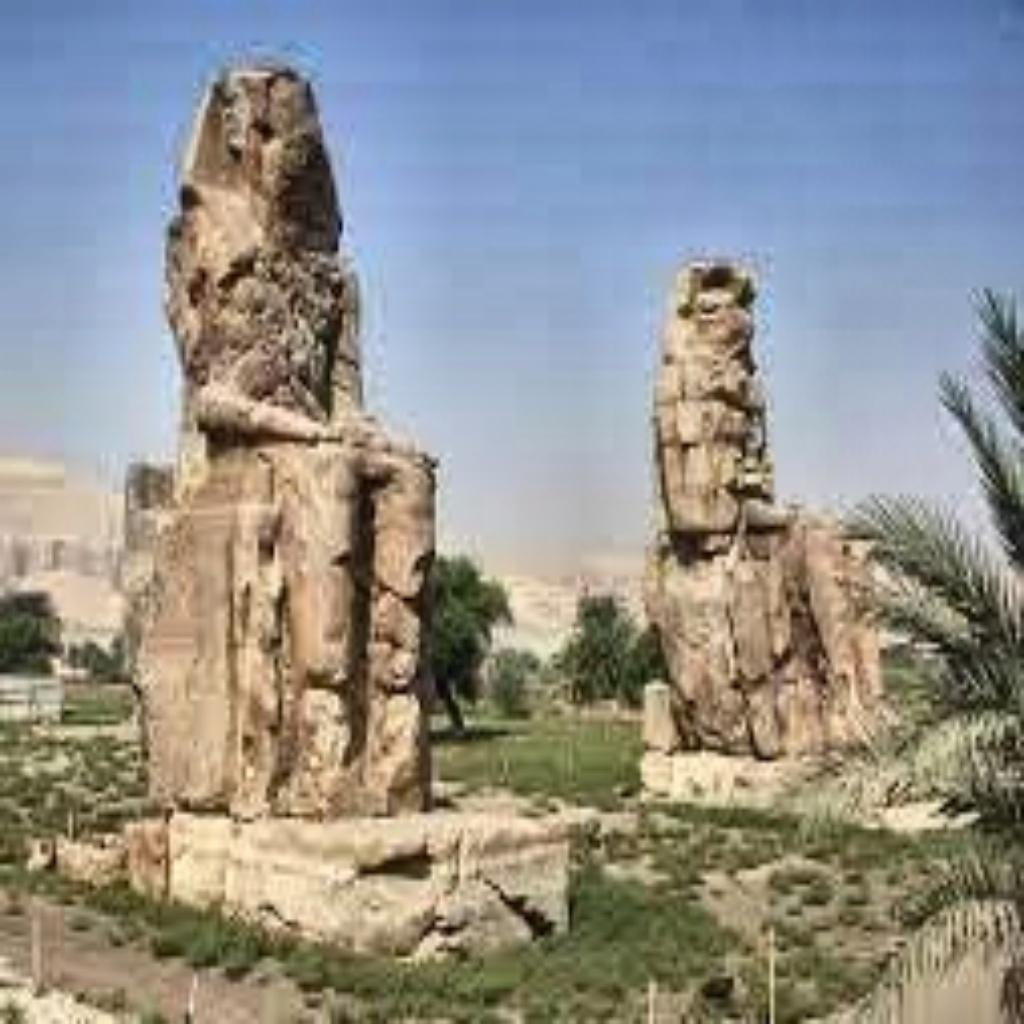Colossoi of Memnon: (112, 52, 448, 824), (622, 246, 912, 780)
